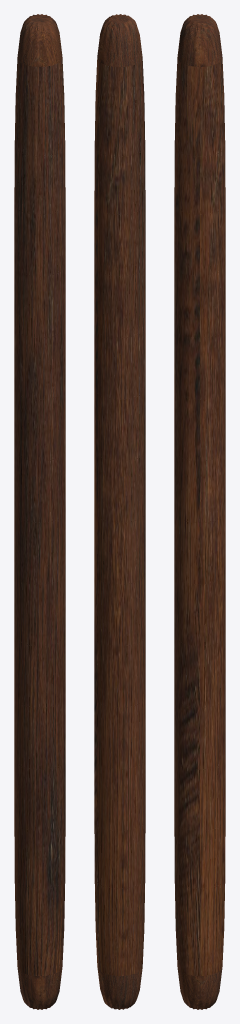
Rendered from ironPickaxe.fbx.
3 renders of one model, left to right at view 1: azimuth 90°, elevation 25°; view 2: azimuth 210°, elevation 25°; view 3: azimuth 270°, elevation 25°, orthographic.
Parts seen in each view (by area): view 1: Cylinder; view 2: Cylinder; view 3: Cylinder.
Boxes of the visible parts, bbox=[...] form: Cylinder: bbox=[14, 14, 65, 1009]; Cylinder: bbox=[94, 14, 145, 1009]; Cylinder: bbox=[174, 14, 225, 1009].
Bounding box in the file's own units: 16.36 × 348 × 16.36.
1 material, 1 textured.
